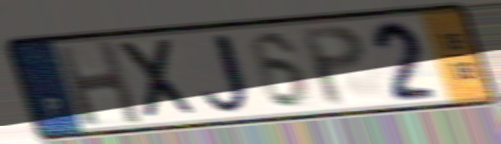2: (369, 14, 448, 107)
6: (248, 30, 315, 110)
H: (51, 37, 147, 129)
J: (199, 30, 260, 119)
P: (295, 21, 370, 108)
X: (112, 36, 206, 124)
